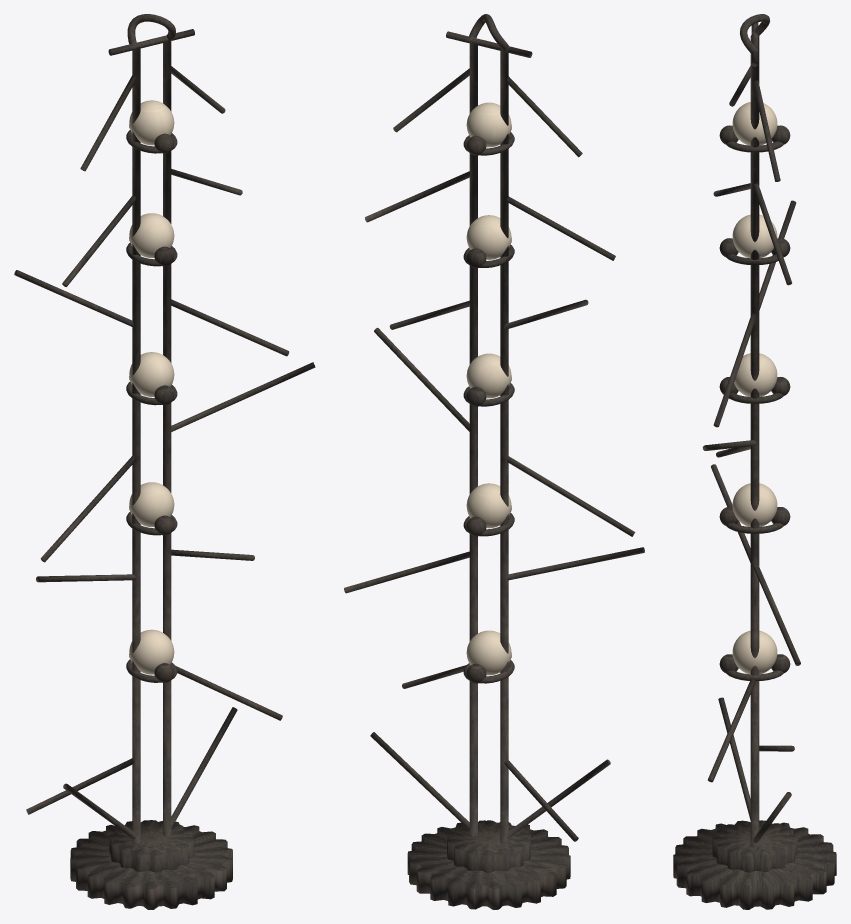
File: hy3d-esc-039.glb
3 views of the same model, side by side, from view 1: azimuth 30°, elevation 25°; view 2: azimuth 150°, elevation 25°; view 3: azimuth 270°, elevation 25° (orthographic).
Parts seen in each view (by area): view 1: world; view 2: world; view 3: world.
Part boxes in pixels (left/top/right/bottom): world: left=14, top=14, right=315, bottom=909; world: left=344, top=14, right=644, bottom=909; world: left=673, top=14, right=836, bottom=909.
Size of the model in its own units: 0.2782 by 0.8331 by 0.1433.
Materials: 1 (1 with a texture image).
